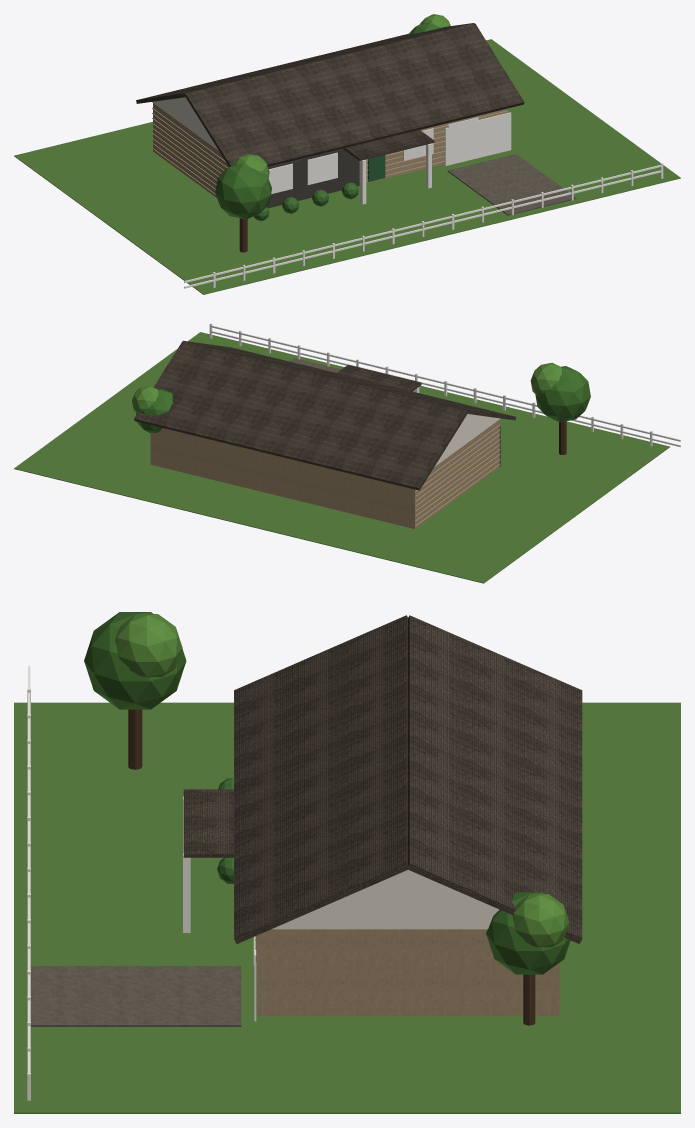
File: OT_House_B.glb
3 renders of one model, top to bottom at view 1: azimuth 30°, elevation 25°; view 2: azimuth 150°, elevation 25°; view 3: azimuth 270°, elevation 25°, orthographic. The views are drawn at different scales.
Visible parts, largest first — view 1: OT_House_B_Lawn__567d3a, OT_House_B_Shingle, OT_House_B_TrimWhite__f0efe9, OT_House_B_Siding, OT_House_B_Concrete, OT_House_B_Leaf__3f6e2c, OT_House_B_Stone, OT_House_B_GarageDoor__f0efe9, OT_House_B_LapShadowB__bba98a, OT_House_B_Gable__e8e2d4, OT_House_B_Shrub__3e6b2f, OT_House_B_Leaf2__58893a; view 2: OT_House_B_Lawn__567d3a, OT_House_B_Shingle, OT_House_B_Siding, OT_House_B_TrimWhite__f0efe9, OT_House_B_Leaf__3f6e2c, OT_House_B_LapShadowB__bba98a, OT_House_B_Leaf2__58893a, OT_House_B_Gable__e8e2d4; view 3: OT_House_B_Lawn__567d3a, OT_House_B_Shingle, OT_House_B_Siding, OT_House_B_Concrete, OT_House_B_Gable__e8e2d4, OT_House_B_Leaf__3f6e2c, OT_House_B_Leaf2__58893a, OT_House_B_TrimWhite__f0efe9, OT_House_B_Bark__4a3424.
Part boxes in pixels (x1,y1,x2,y2): OT_House_B_Lawn__567d3a: [14, 39, 680, 294]; OT_House_B_Shingle: [136, 23, 524, 166]; OT_House_B_TrimWhite__f0efe9: [184, 117, 663, 288]; OT_House_B_Siding: [153, 103, 507, 197]; OT_House_B_Concrete: [447, 154, 576, 215]; OT_House_B_Leaf__3f6e2c: [215, 22, 440, 219]; OT_House_B_Stone: [267, 148, 359, 208]; OT_House_B_GarageDoor__f0efe9: [445, 112, 511, 165]; OT_House_B_LapShadowB__bba98a: [152, 108, 507, 194]; OT_House_B_Gable__e8e2d4: [152, 97, 218, 150]; OT_House_B_Shrub__3e6b2f: [253, 182, 358, 220]; OT_House_B_Leaf2__58893a: [232, 14, 450, 177]; OT_House_B_Lawn__567d3a: [14, 332, 669, 583]; OT_House_B_Shingle: [134, 340, 515, 490]; OT_House_B_Siding: [150, 419, 499, 528]; OT_House_B_TrimWhite__f0efe9: [209, 323, 680, 446]; OT_House_B_Leaf__3f6e2c: [136, 366, 590, 433]; OT_House_B_LapShadowB__bba98a: [415, 424, 500, 526]; OT_House_B_Leaf2__58893a: [132, 362, 561, 413]; OT_House_B_Gable__e8e2d4: [434, 414, 500, 466]; OT_House_B_Lawn__567d3a: [14, 702, 680, 1113]; OT_House_B_Shingle: [183, 615, 582, 944]; OT_House_B_Siding: [256, 929, 559, 1015]; OT_House_B_Concrete: [31, 966, 241, 1026]; OT_House_B_Gable__e8e2d4: [272, 870, 499, 929]; OT_House_B_Leaf__3f6e2c: [84, 612, 570, 974]; OT_House_B_Leaf2__58893a: [115, 614, 569, 947]; OT_House_B_TrimWhite__f0efe9: [27, 666, 254, 1100]; OT_House_B_Bark__4a3424: [128, 709, 535, 1025].
Bounding box in the file's own units: 33 × 6.17 × 22.
Materials: 16 (4 with a texture image).
